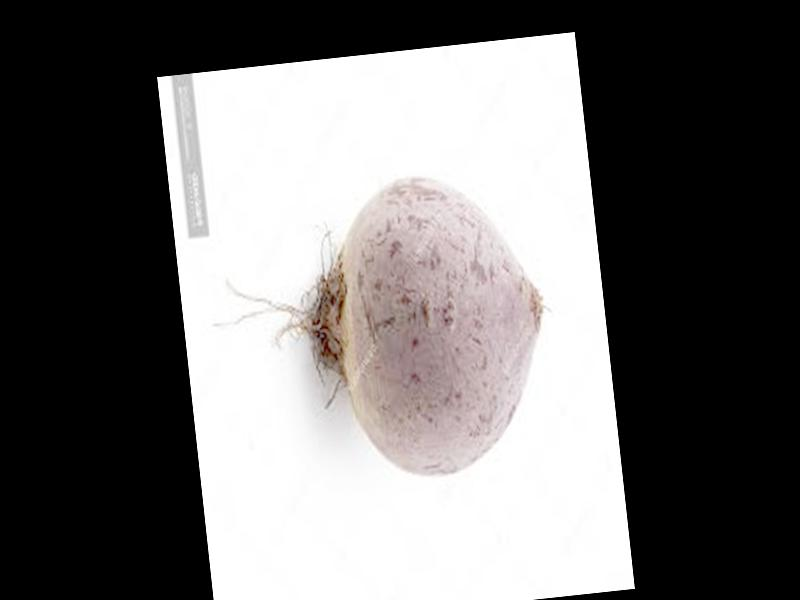Beet: (197, 161, 562, 499)
